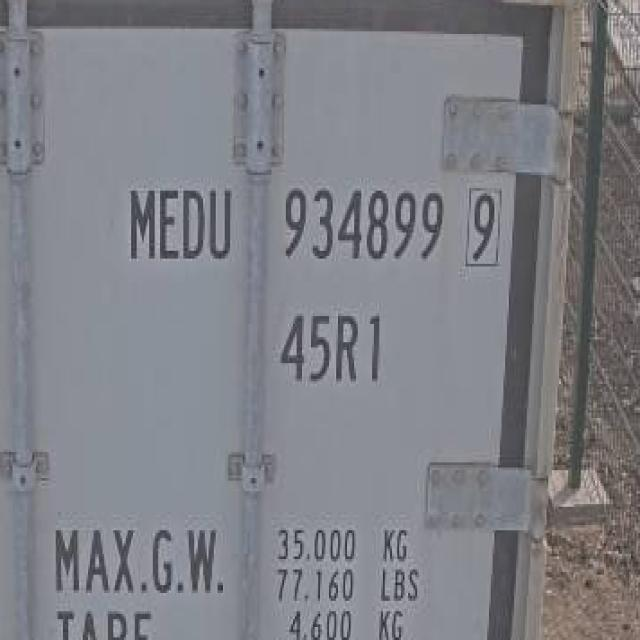dv: (456, 174, 506, 274)
owner: (114, 174, 239, 275)
serial: (278, 175, 445, 276)
size: (268, 302, 401, 392)
